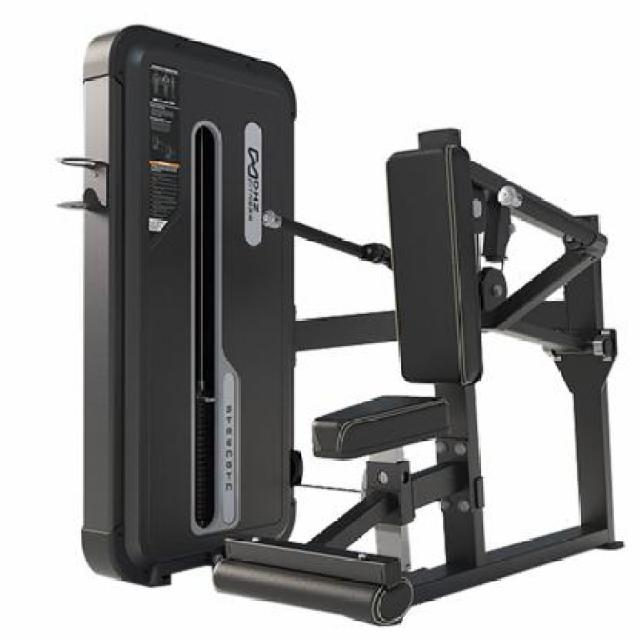seated dip machine: (85, 25, 628, 628)
